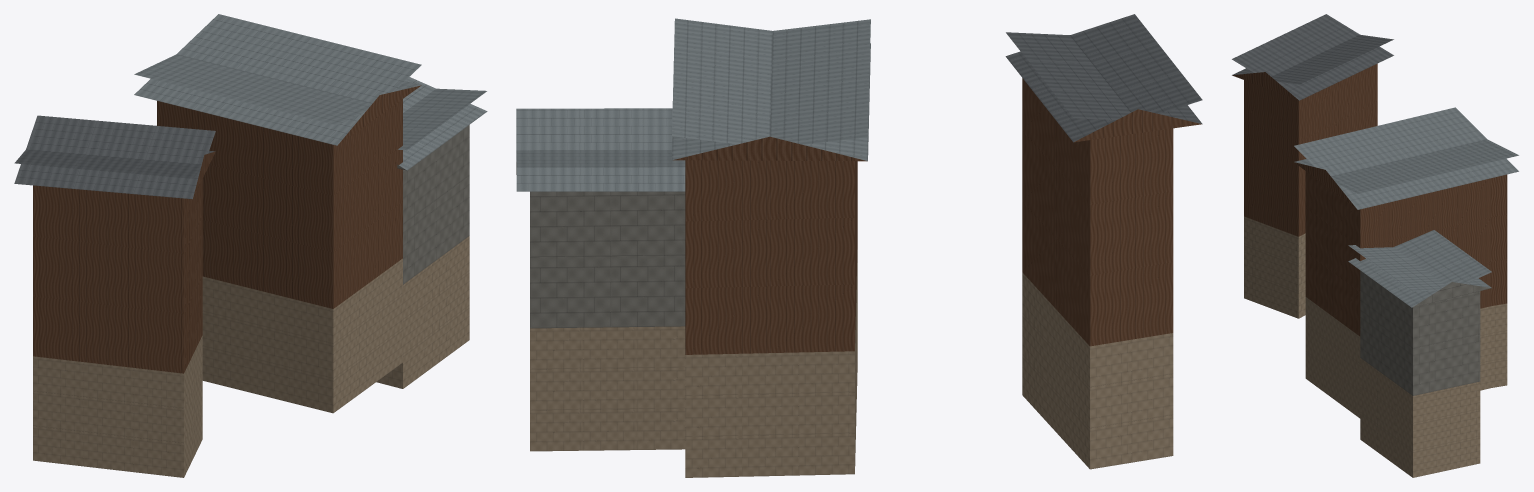
File: bld_c9_11_493.gltf
3 views of the same model, side by side, from view 1: azimuth 30°, elevation 25°; view 2: azimuth 150°, elevation 25°; view 3: azimuth 270°, elevation 25° (orthographic). The views are drawn at different scales.
Visible parts, largest first — view 1: bld_c9_11_493; view 2: bld_c9_11_493; view 3: bld_c9_11_493.
Boxes of the visible parts, <box> form: bld_c9_11_493: <box>14,14,487,477</box>; bld_c9_11_493: <box>516,14,1202,477</box>; bld_c9_11_493: <box>1232,14,1518,477</box>.
Size of the model in its own units: 27 by 16.7 by 16.25.
7 materials, 7 textured.
